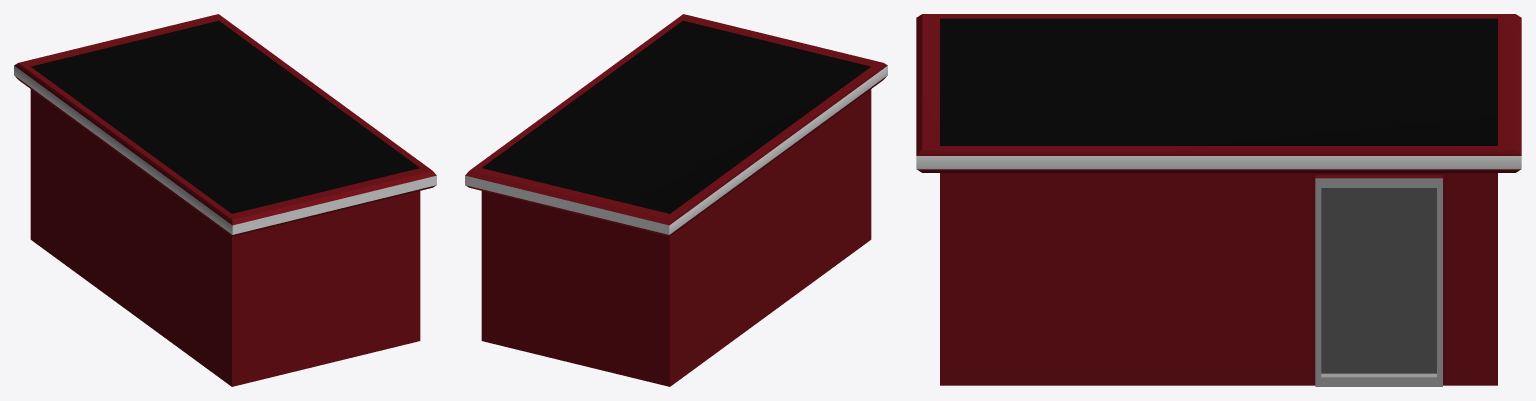
Rendered from building4.fbx.
3 views of the same model, side by side, from view 1: azimuth 30°, elevation 25°; view 2: azimuth 150°, elevation 25°; view 3: azimuth 270°, elevation 25° (orthographic). The views are drawn at different scales.
Parts seen in each view (by area): view 1: pCube3; view 2: pCube3; view 3: pCube3.
Boxes of the visible parts, bbox=[...] form: pCube3: bbox=[14, 14, 436, 386]; pCube3: bbox=[465, 14, 887, 386]; pCube3: bbox=[916, 14, 1521, 386].
Bounding box in the file's own units: 2.58 × 2.09 × 4.78.
